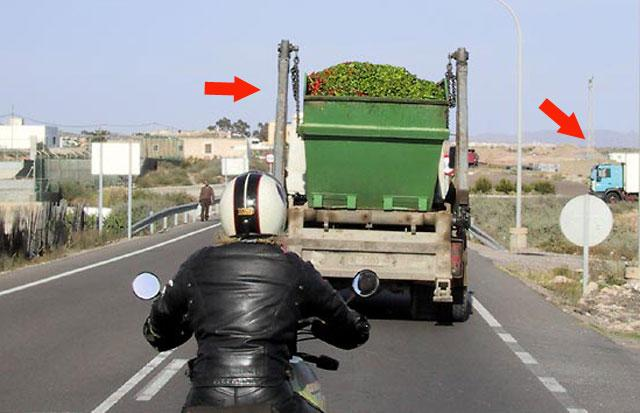helmet: (217, 166, 299, 248)
